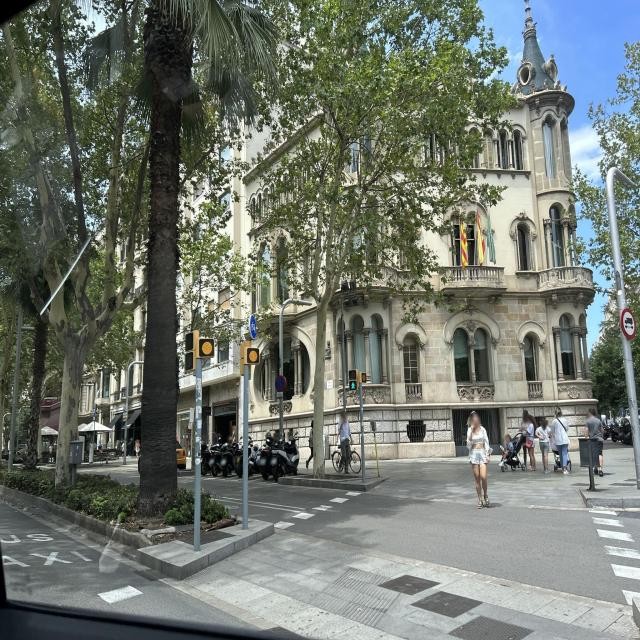forb_stopping: (274, 375, 286, 392)
